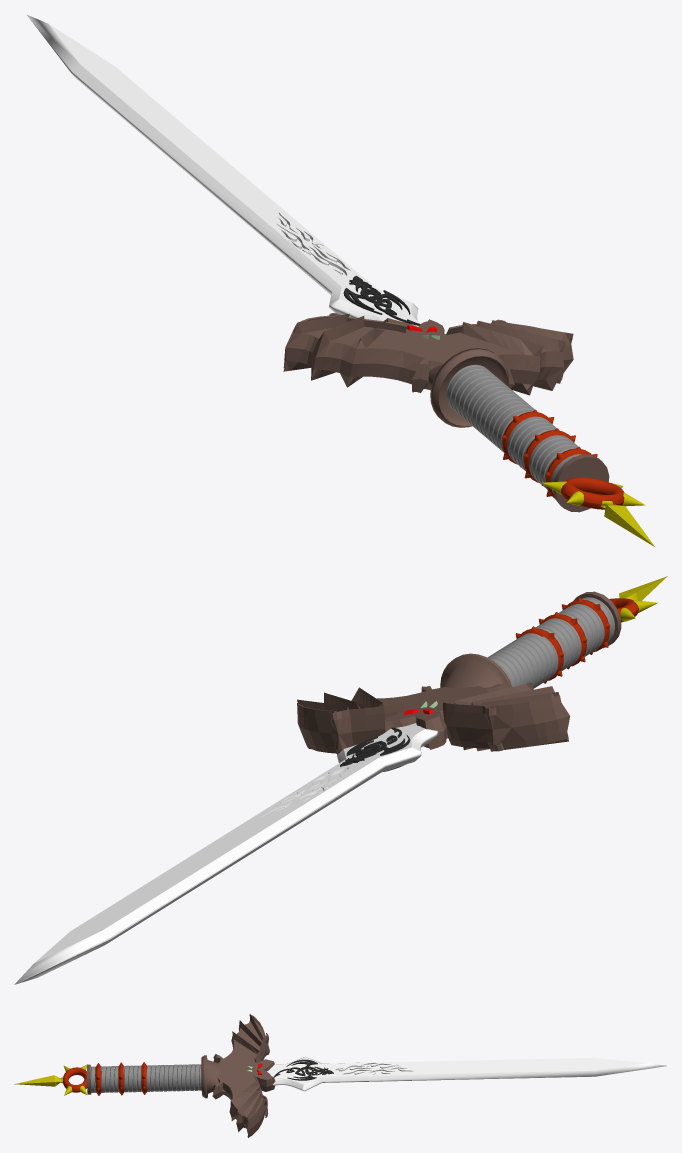
Rendered from greatsword_model.fbx.
The picture shows the model from 3 angles, top to bottom: view 1: azimuth 30°, elevation 25°; view 2: azimuth 150°, elevation 25°; view 3: azimuth 270°, elevation 25°; orthographic projection. The views are drawn at different scales.
Visible parts, largest first — view 1: ME4 cam, CCAM, Ellipse01, Loft04, Cylinder01, Torus01, Loft06, DRAKON, Loft05, Loft03, Loft02, Box01; view 2: CCAM, ME4 cam, Ellipse01, Loft05, Loft04, Loft03, Loft02, DRAKON; view 3: ME4 cam, CCAM, Loft04, DRAKON, Ellipse01, Loft05, Loft03, Loft02, Torus01, Box01, Loft06.
Part boxes in pixels (bbox=[...]): ME4 cam: bbox=[26, 14, 420, 326]; CCAM: bbox=[283, 313, 573, 395]; Ellipse01: bbox=[428, 348, 509, 427]; Loft04: bbox=[464, 377, 520, 440]; Cylinder01: bbox=[553, 454, 609, 512]; Torus01: bbox=[561, 477, 624, 509]; Loft06: bbox=[447, 364, 499, 421]; DRAKON: bbox=[343, 275, 420, 325]; Loft05: bbox=[485, 395, 534, 452]; Loft03: bbox=[507, 416, 559, 471]; Loft02: bbox=[529, 435, 581, 489]; Box01: bbox=[601, 500, 654, 546]; CCAM: bbox=[297, 682, 570, 754]; ME4 cam: bbox=[14, 723, 439, 984]; Ellipse01: bbox=[440, 653, 511, 687]; Loft05: bbox=[502, 633, 558, 688]; Loft04: bbox=[487, 644, 538, 687]; Loft03: bbox=[535, 618, 581, 670]; Loft02: bbox=[559, 604, 604, 656]; DRAKON: bbox=[340, 727, 410, 771]; ME4 cam: bbox=[267, 1056, 666, 1091]; CCAM: bbox=[212, 1014, 275, 1137]; Loft04: bbox=[164, 1064, 190, 1091]; DRAKON: bbox=[274, 1059, 333, 1080]; Ellipse01: bbox=[201, 1055, 219, 1098]; Loft05: bbox=[146, 1065, 168, 1091]; Loft03: bbox=[123, 1065, 142, 1092]; Loft02: bbox=[100, 1066, 119, 1092]; Torus01: bbox=[63, 1067, 87, 1092]; Box01: bbox=[14, 1075, 62, 1086]; Loft06: bbox=[186, 1064, 201, 1090].
Bounding box in the file's own units: 100 × 41.38 × 396.
